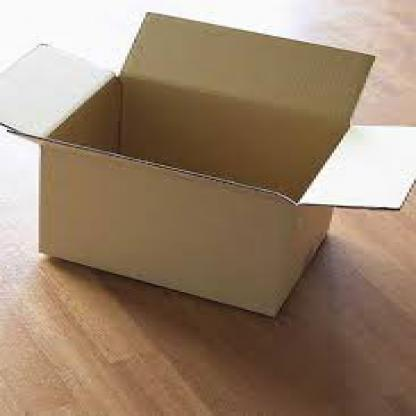box: (0, 11, 414, 315)
